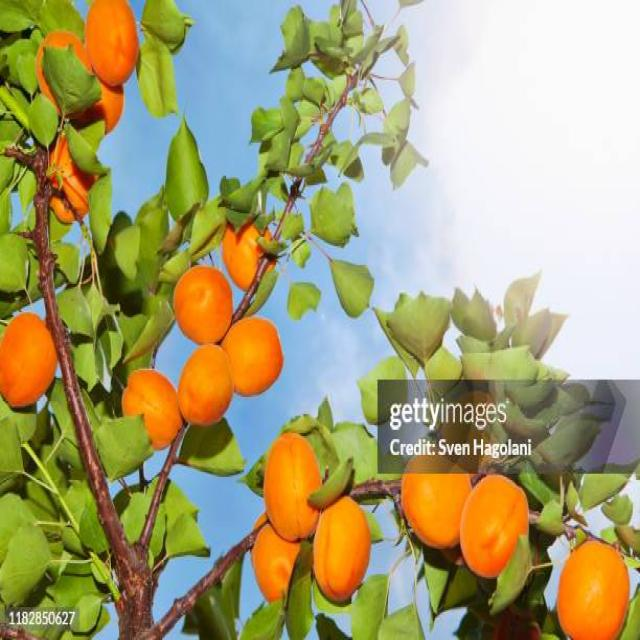kayisi: (562, 535, 632, 640), (472, 471, 527, 580), (330, 501, 386, 590), (126, 372, 182, 458), (173, 268, 241, 335), (265, 461, 334, 527), (10, 324, 60, 415), (50, 20, 92, 119), (166, 366, 244, 418), (93, 0, 137, 89), (410, 464, 464, 523), (254, 546, 319, 595), (228, 220, 276, 275), (235, 321, 275, 387)
yaprak: (266, 10, 412, 299), (0, 414, 187, 639), (374, 290, 611, 467), (11, 153, 211, 316)
